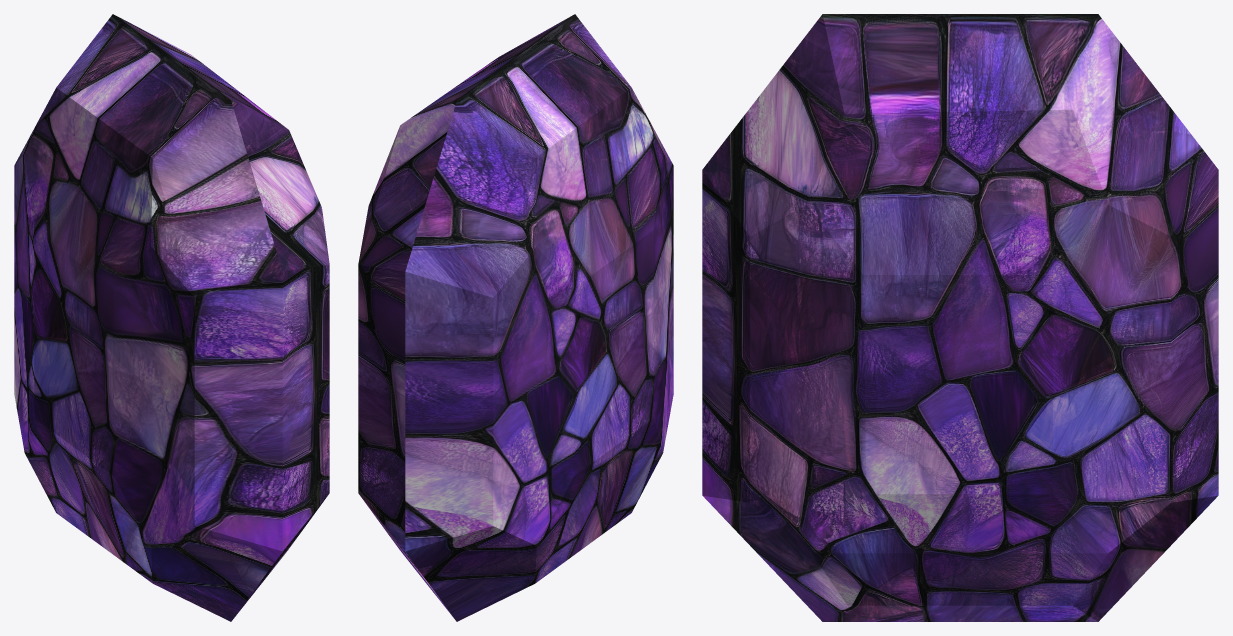
The model's file is gemstone8Purple.glb.
3 views of the same model, side by side, from view 1: azimuth 30°, elevation 25°; view 2: azimuth 150°, elevation 25°; view 3: azimuth 270°, elevation 25° (orthographic). The views are drawn at different scales.
Visible parts, largest first — view 1: gemstone7; view 2: gemstone7; view 3: gemstone7.
Boxes of the visible parts, <box> form: gemstone7: <box>14,14,329,621</box>; gemstone7: <box>358,14,673,621</box>; gemstone7: <box>702,14,1218,621</box>.
Size of the model in its own units: 0.5 by 1.3 by 1.
Materials: 1 (1 with a texture image).
